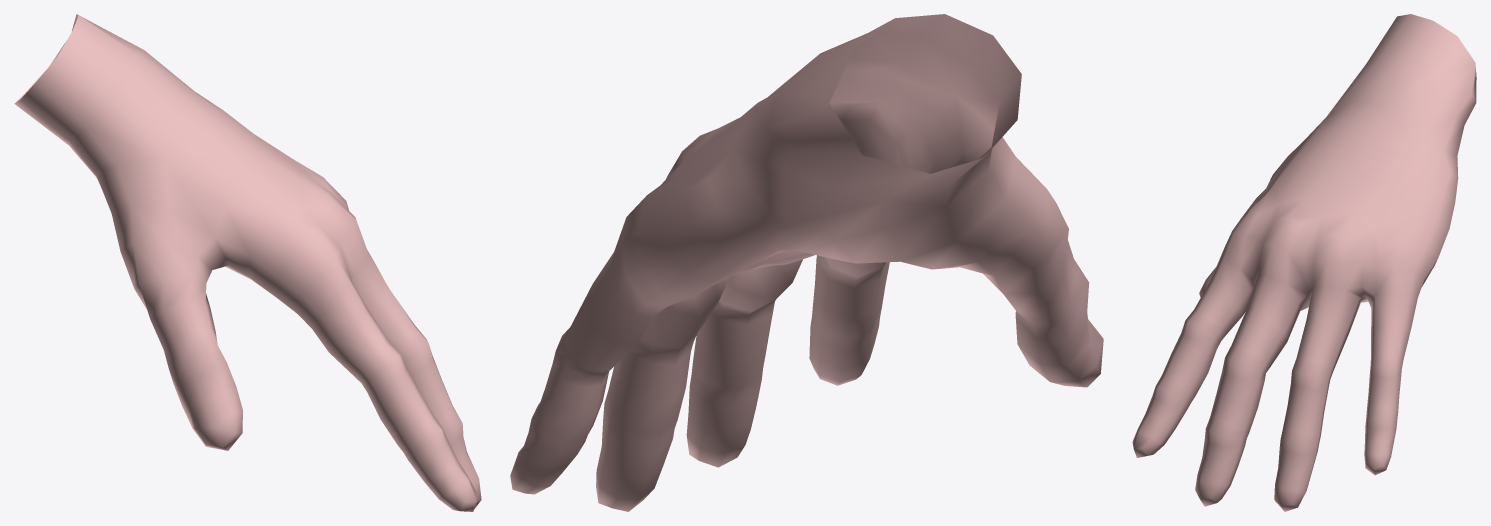
Rendered from Superhero_Female_A_Hand02.fbx.
3 views of the same model, side by side, from view 1: azimuth 30°, elevation 25°; view 2: azimuth 150°, elevation 25°; view 3: azimuth 270°, elevation 25° (orthographic). The views are drawn at different scales.
Visible parts, largest first — view 1: Superhero_Female_A_Hand02; view 2: Superhero_Female_A_Hand02; view 3: Superhero_Female_A_Hand02.
Part boxes in pixels (left/top/right/bottom): Superhero_Female_A_Hand02: left=14, top=14, right=481, bottom=511; Superhero_Female_A_Hand02: left=510, top=14, right=1103, bottom=511; Superhero_Female_A_Hand02: left=1132, top=14, right=1476, bottom=511.
Size of the model in its own units: 0.8225 by 1.01 by 0.8224.
